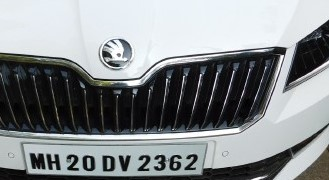MH20DV2362: (23, 144, 208, 174)
